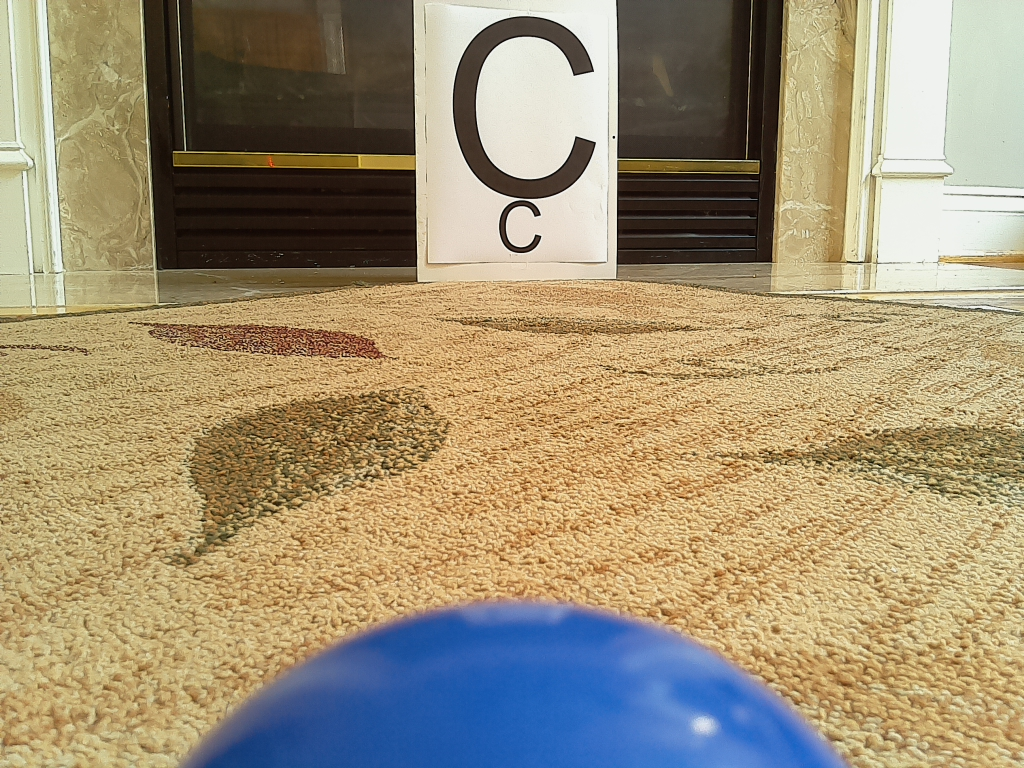letter: (452, 14, 596, 198)
